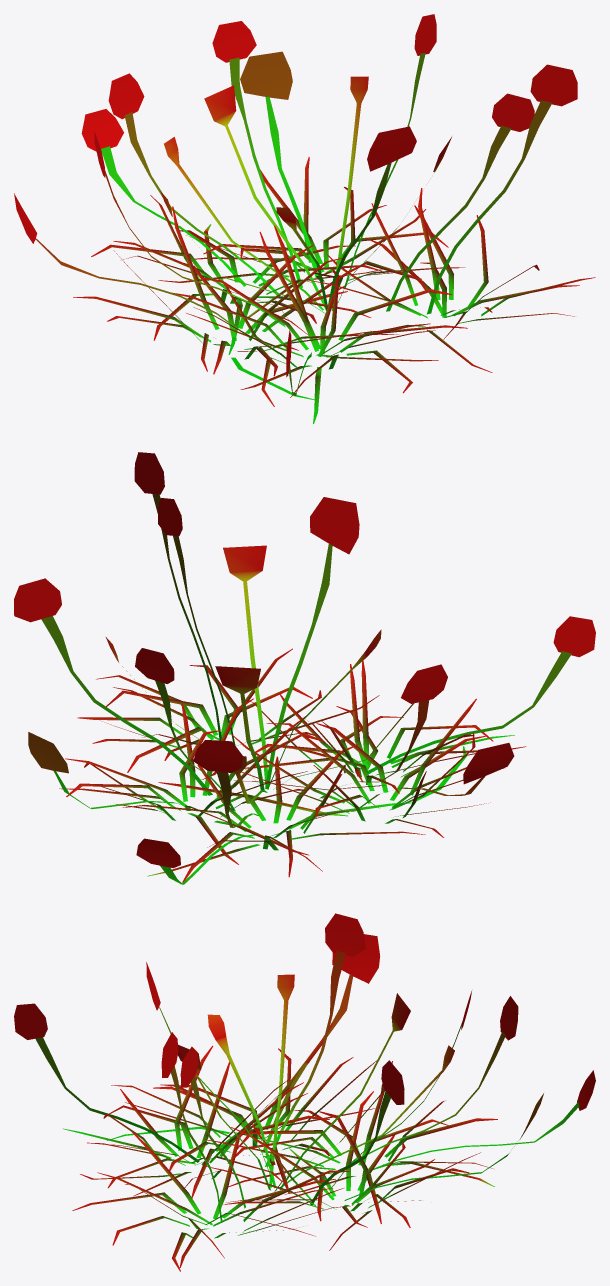
The model's file is Var4_LOD3.fbx.
The picture shows the model from 3 angles, top to bottom: view 1: azimuth 30°, elevation 25°; view 2: azimuth 150°, elevation 25°; view 3: azimuth 270°, elevation 25°; orthographic projection. The views are drawn at different scales.
Visible parts, largest first — view 1: _o75p_Var4_LOD3; view 2: _o75p_Var4_LOD3; view 3: _o75p_Var4_LOD3.
Boxes of the visible parts, box(x1,y1,x2,y2) form: _o75p_Var4_LOD3: box(14, 14, 595, 423); _o75p_Var4_LOD3: box(14, 452, 595, 884); _o75p_Var4_LOD3: box(14, 913, 595, 1271).
Bounding box in the file's own units: 30.45 × 14.79 × 33.29.
